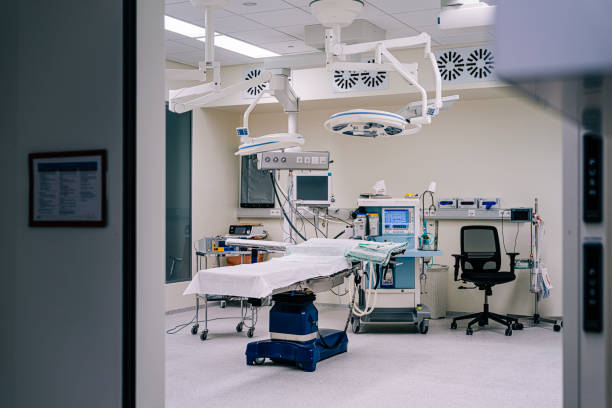bedside_monitor: (292, 172, 332, 205)
chair: (452, 226, 525, 337)
operating_bed: (199, 238, 407, 372)
surgical_light: (325, 94, 460, 139), (229, 132, 305, 156)
utility_cart: (200, 236, 255, 335)
ventilator: (349, 193, 436, 336)
